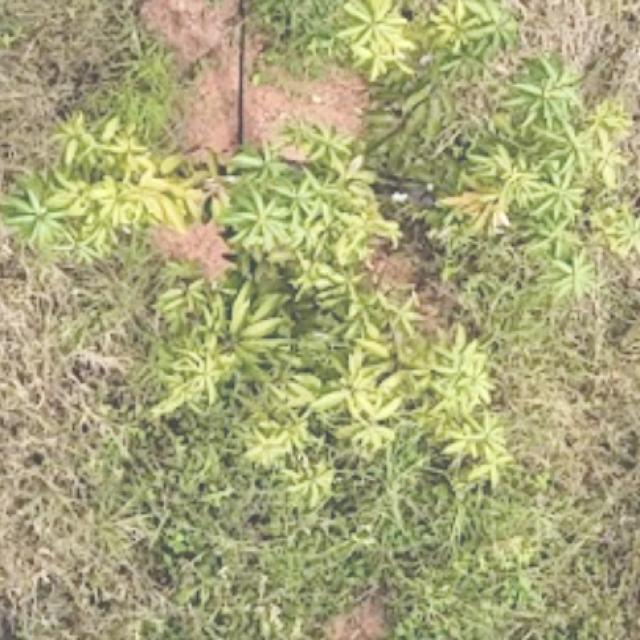mangoTree: (5, 0, 640, 499)
